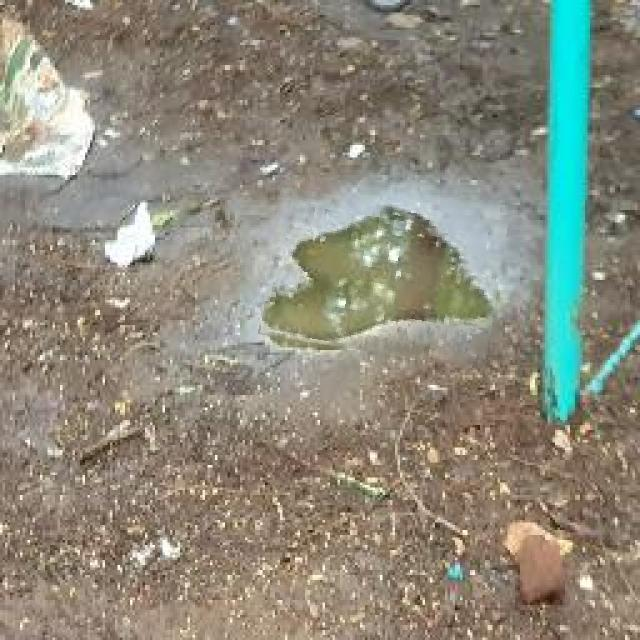puddle: (264, 196, 504, 363)
